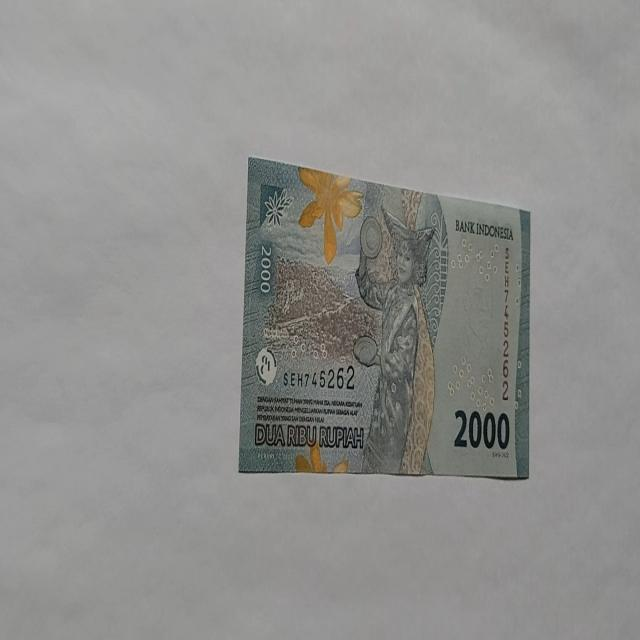dua ribu rupiah: (238, 158, 532, 479), (353, 205, 437, 474), (296, 164, 364, 265)
